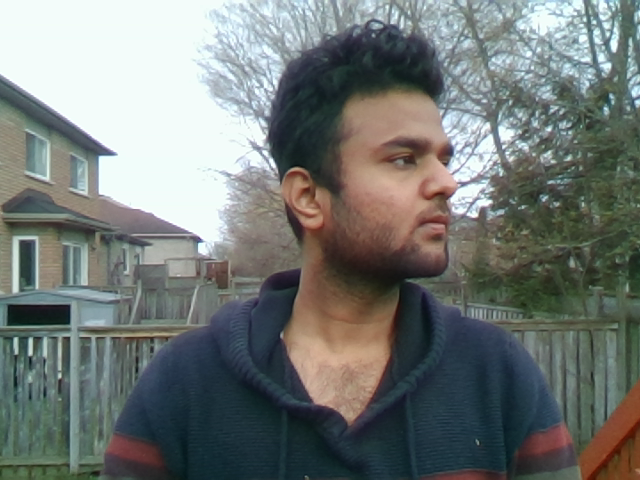Without Mask: (282, 163, 479, 282)
